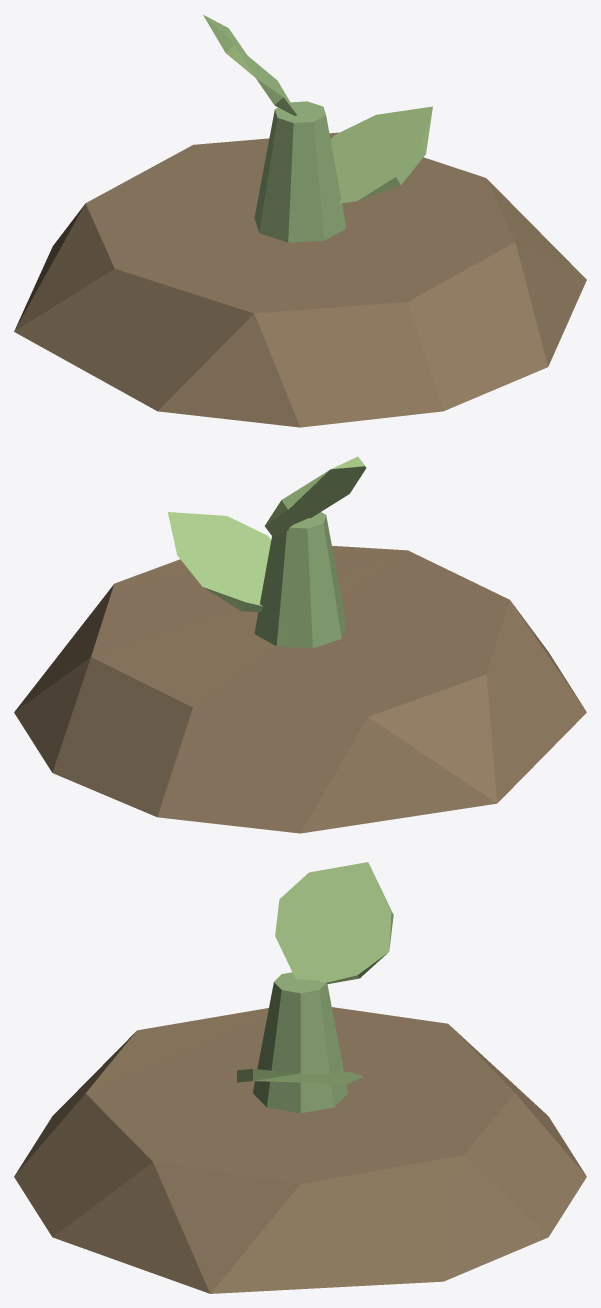
Rendered from 33-Agricultura_cultivo_brote.glb.
3 renders of one model, top to bottom at view 1: azimuth 30°, elevation 25°; view 2: azimuth 150°, elevation 25°; view 3: azimuth 270°, elevation 25°, orthographic.
Visible parts, largest first — view 1: SM_Cultivo_M_Cultivo_Tierra, SM_Cultivo_M_Cultivo_Tallo, SM_Cultivo_M_Cultivo_Hoja; view 2: SM_Cultivo_M_Cultivo_Tierra, SM_Cultivo_M_Cultivo_Hoja, SM_Cultivo_M_Cultivo_Tallo; view 3: SM_Cultivo_M_Cultivo_Tierra, SM_Cultivo_M_Cultivo_Hoja, SM_Cultivo_M_Cultivo_Tallo.
Part boxes in pixels (x1,y1,x2,y2): SM_Cultivo_M_Cultivo_Tierra: [14, 132, 586, 427]; SM_Cultivo_M_Cultivo_Tallo: [254, 101, 346, 242]; SM_Cultivo_M_Cultivo_Hoja: [203, 14, 432, 203]; SM_Cultivo_M_Cultivo_Tierra: [14, 546, 586, 833]; SM_Cultivo_M_Cultivo_Hoja: [168, 456, 366, 612]; SM_Cultivo_M_Cultivo_Tallo: [254, 512, 346, 648]; SM_Cultivo_M_Cultivo_Tierra: [14, 1007, 586, 1293]; SM_Cultivo_M_Cultivo_Hoja: [237, 862, 393, 1083]; SM_Cultivo_M_Cultivo_Tallo: [253, 972, 347, 1113].
Size of the model in its own units: 0.273 by 0.1529 by 0.28.
